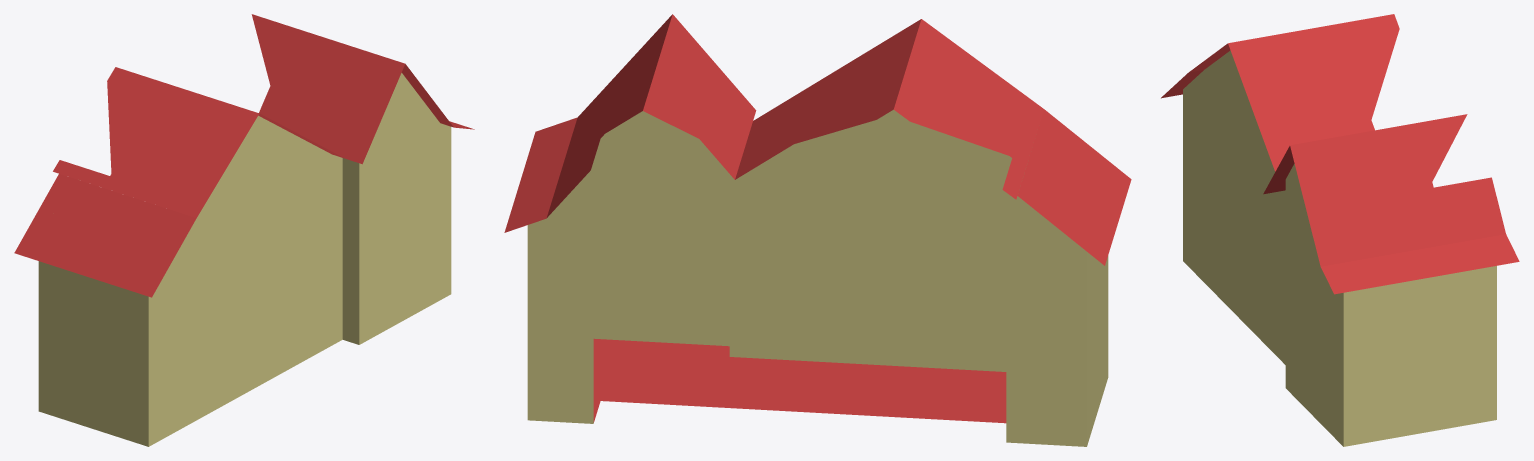
3 views of the same model, side by side, from view 1: azimuth 30°, elevation 25°; view 2: azimuth 150°, elevation 25°; view 3: azimuth 270°, elevation 25° (orthographic). The views are drawn at different scales.
Size of the model in its own units: 23.29 by 15.56 by 13.49.
